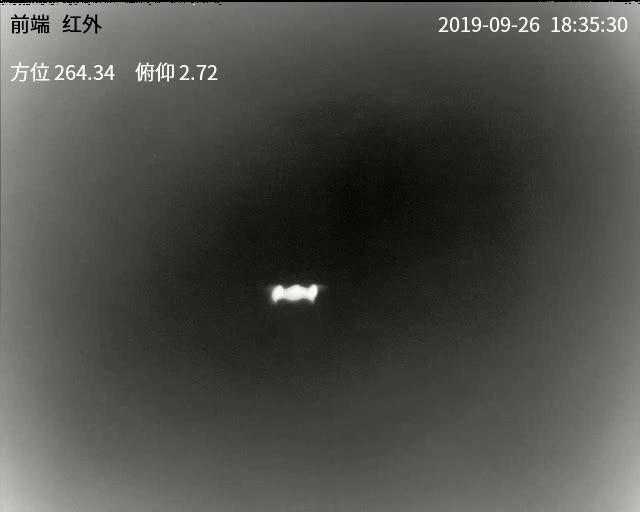DRONE: (269, 284, 320, 304)
